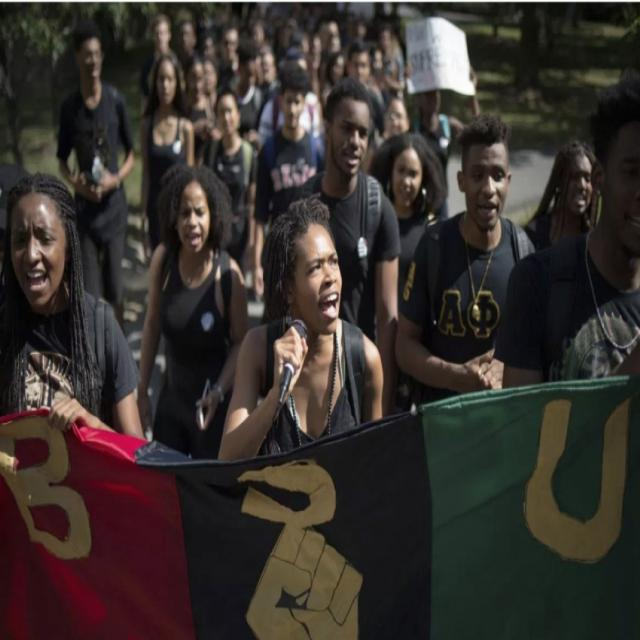body: (131, 1, 640, 261), (0, 166, 154, 638), (266, 73, 404, 420), (490, 79, 640, 390), (217, 193, 385, 467), (390, 111, 540, 396), (134, 158, 252, 462), (56, 27, 138, 338)
